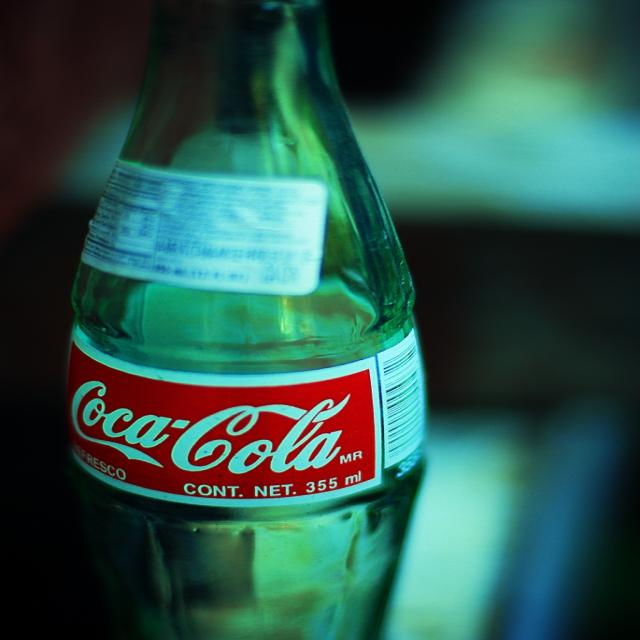cocacola: (67, 377, 363, 478)
